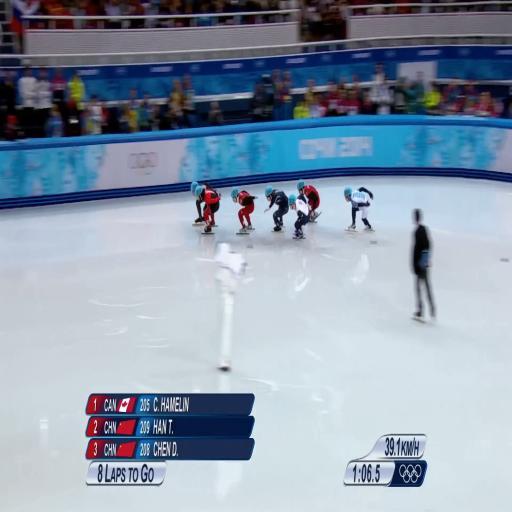Skater: (344, 187, 373, 231), (195, 185, 221, 233), (231, 188, 256, 234), (265, 186, 288, 232), (298, 181, 321, 222), (289, 194, 310, 238), (195, 199, 204, 225)
